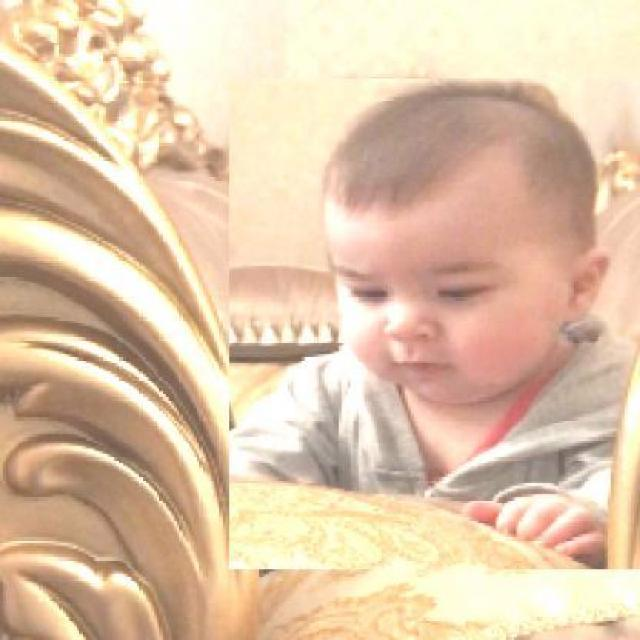child: (228, 78, 640, 570)
